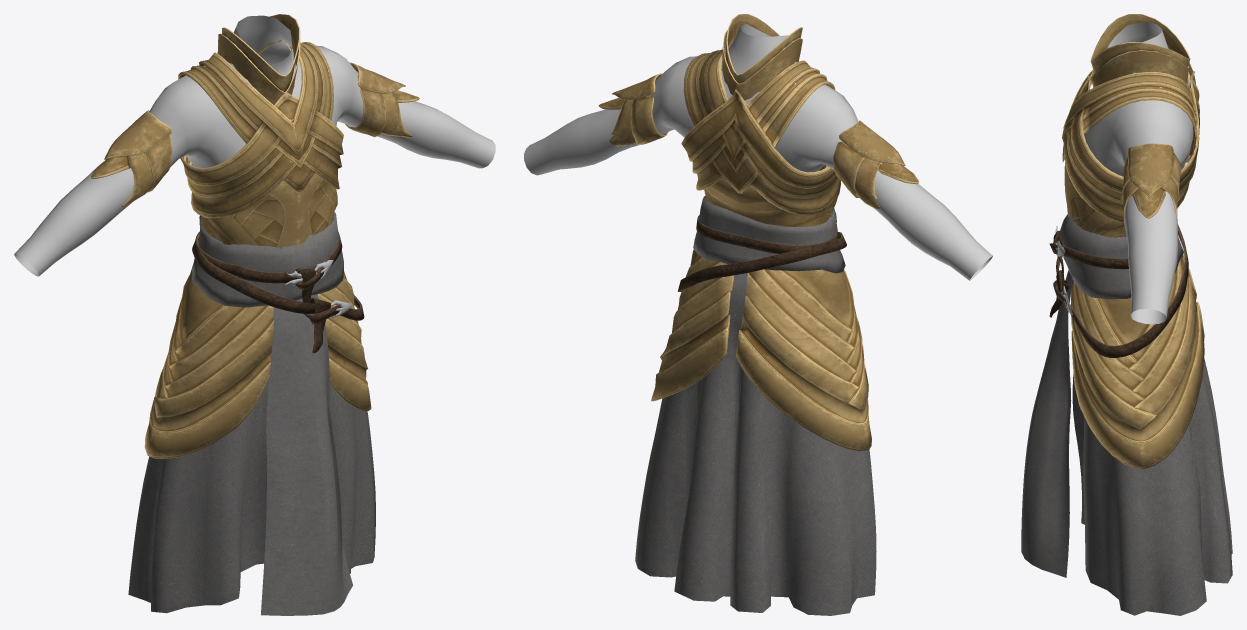
Rendered from rivendell_torso_heavy_tier3.fbx.
3 views of the same model, side by side, from view 1: azimuth 30°, elevation 25°; view 2: azimuth 150°, elevation 25°; view 3: azimuth 270°, elevation 25° (orthographic). The views are drawn at different scales.
Parts seen in each view (by area): view 1: rivendell_torso_heavy_tier3.5, rivendell_torso_heavy_tier3.2, rivendell_torso_heavy_tier3.0, rivendell_torso_heavy_tier3.3, rivendell_torso_heavy_tier3.4, rivendell_torso_heavy_tier3.1; view 2: rivendell_torso_heavy_tier3.2, rivendell_torso_heavy_tier3.4, rivendell_torso_heavy_tier3.0, rivendell_torso_heavy_tier3.3, rivendell_torso_heavy_tier3.5, rivendell_torso_heavy_tier3.1; view 3: rivendell_torso_heavy_tier3.2, rivendell_torso_heavy_tier3.4, rivendell_torso_heavy_tier3.5, rivendell_torso_heavy_tier3.0, rivendell_torso_heavy_tier3.3, rivendell_torso_heavy_tier3.1.
Part boxes in pixels (left/top/right/bottom): rivendell_torso_heavy_tier3.5: left=192, top=212, right=364, bottom=615; rivendell_torso_heavy_tier3.2: left=128, top=379, right=375, bottom=613; rivendell_torso_heavy_tier3.0: left=178, top=14, right=343, bottom=247; rivendell_torso_heavy_tier3.3: left=14, top=15, right=495, bottom=276; rivendell_torso_heavy_tier3.4: left=144, top=264, right=371, bottom=459; rivendell_torso_heavy_tier3.1: left=91, top=62, right=419, bottom=208; rivendell_torso_heavy_tier3.2: left=635, top=273, right=876, bottom=615; rivendell_torso_heavy_tier3.4: left=651, top=249, right=871, bottom=451; rivendell_torso_heavy_tier3.0: left=681, top=14, right=840, bottom=226; rivendell_torso_heavy_tier3.3: left=524, top=23, right=992, bottom=280; rivendell_torso_heavy_tier3.5: left=677, top=196, right=846, bottom=291; rivendell_torso_heavy_tier3.1: left=598, top=73, right=918, bottom=209; rivendell_torso_heavy_tier3.2: left=1072, top=359, right=1232, bottom=615; rivendell_torso_heavy_tier3.4: left=1071, top=250, right=1204, bottom=469; rivendell_torso_heavy_tier3.5: left=1021, top=214, right=1188, bottom=577; rivendell_torso_heavy_tier3.0: left=1062, top=14, right=1199, bottom=237; rivendell_torso_heavy_tier3.3: left=1083, top=21, right=1193, bottom=324; rivendell_torso_heavy_tier3.1: left=1120, top=143, right=1181, bottom=234.
Bounding box in the file's own units: 1.27 × 0.5129 × 1.45.
